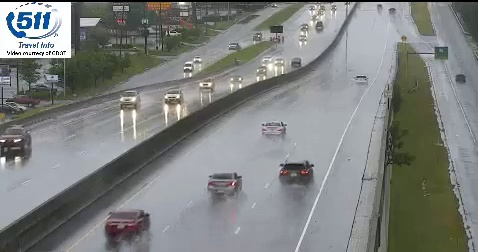car: (106, 209, 150, 238), (208, 172, 242, 196), (279, 161, 313, 182), (261, 122, 286, 137)
